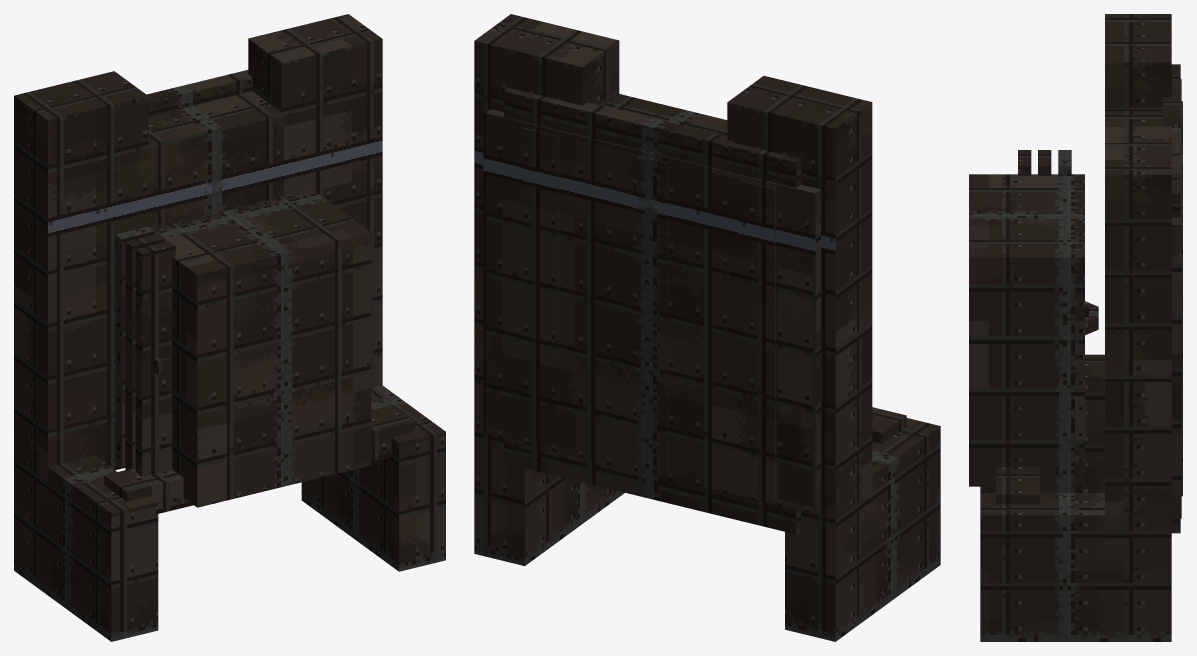
File: enemy_role_bulwark.glb
3 views of the same model, side by side, from view 1: azimuth 30°, elevation 25°; view 2: azimuth 150°, elevation 25°; view 3: azimuth 270°, elevation 25° (orthographic). The views are drawn at different scales.
Parts seen in each view (by area): view 1: enemy_role_bulwark; view 2: enemy_role_bulwark; view 3: enemy_role_bulwark.
Part boxes in pixels (x1=…): enemy_role_bulwark: x1=14, y1=14, x2=445, y2=641; enemy_role_bulwark: x1=474, y1=14, x2=940, y2=641; enemy_role_bulwark: x1=969, y1=14, x2=1182, y2=641.
Size of the model in its own units: 1.45 by 1.97 by 0.816.
Materials: 4 (4 with a texture image).
